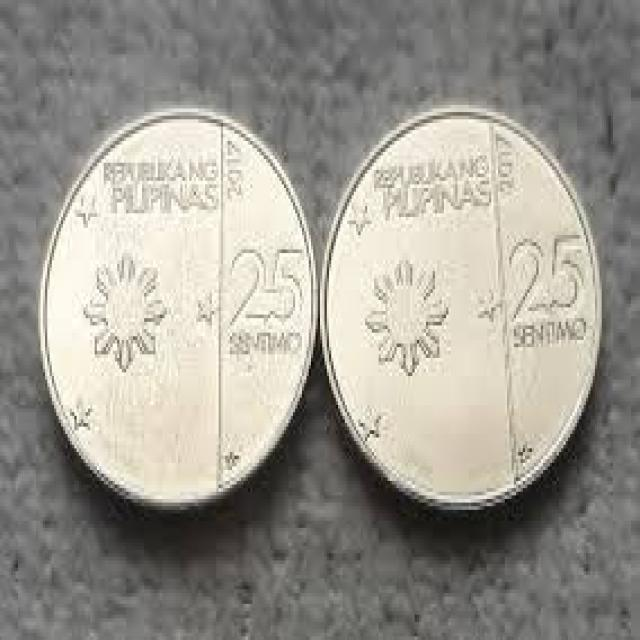25 cents: (34, 104, 320, 529), (324, 98, 606, 526)
